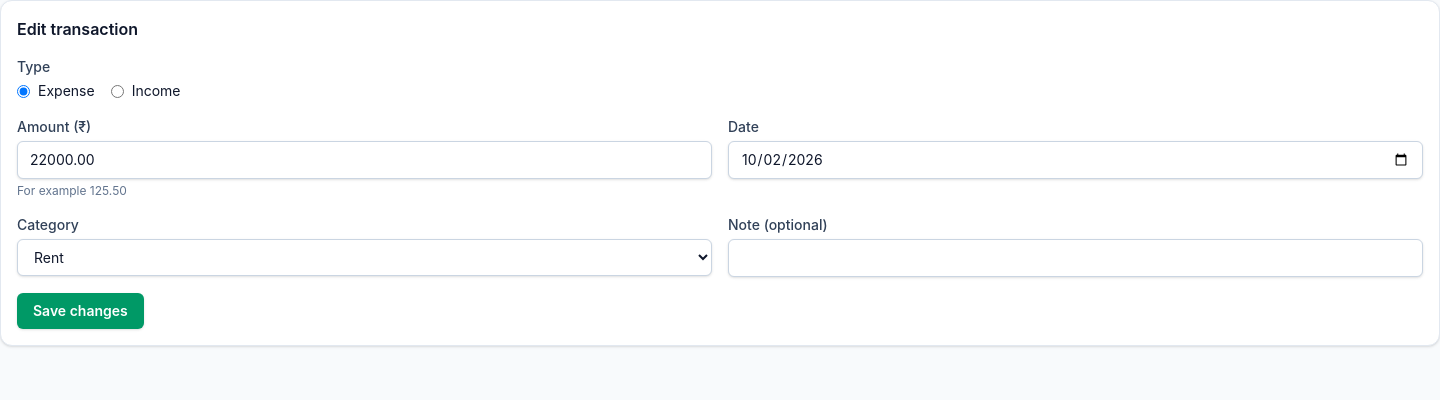
Test: TransactionForm › edits: says so instead of sending an empty update
What coordinates should you click on to do the following:
click the button "Save changes"
I would click on:
 (80, 311)
Its box is [17,293,144,329].
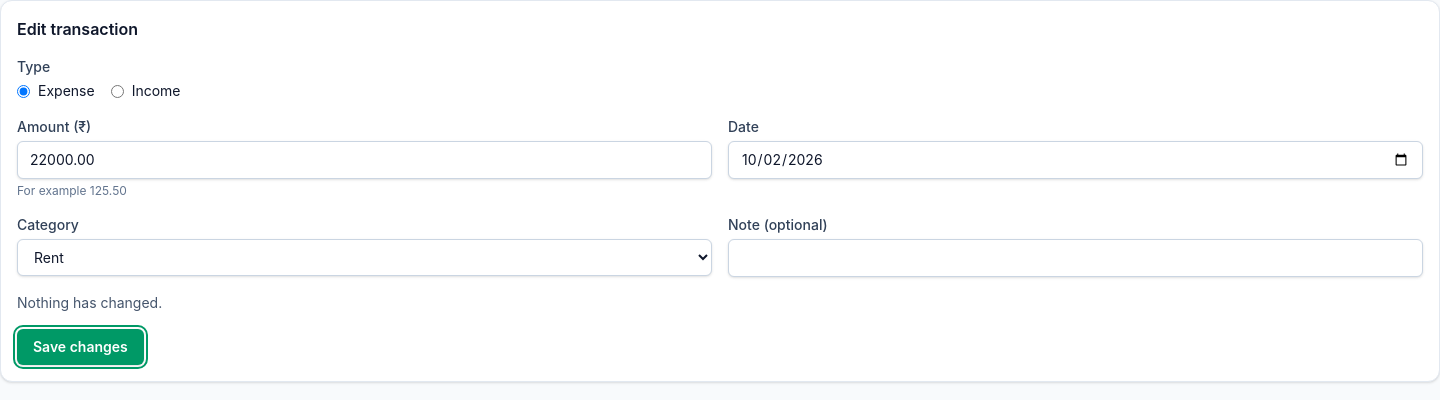
Result: the message reads "Nothing has changed." at [17,294,162,311]
